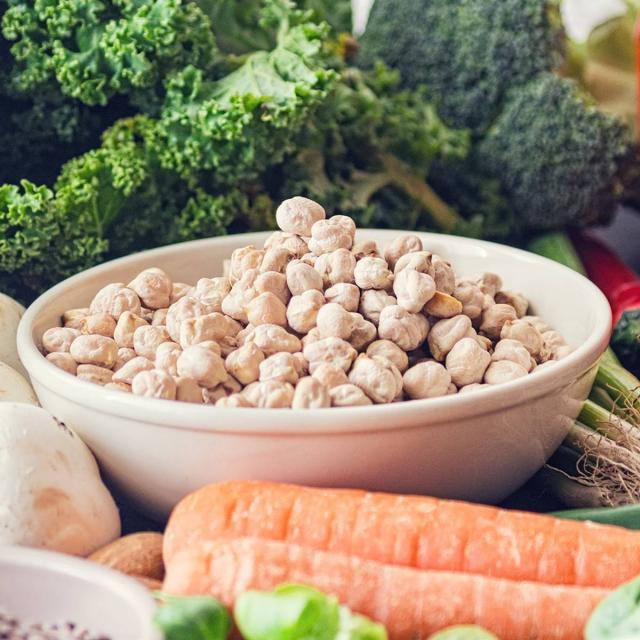garbanzos: (30, 194, 595, 418)
